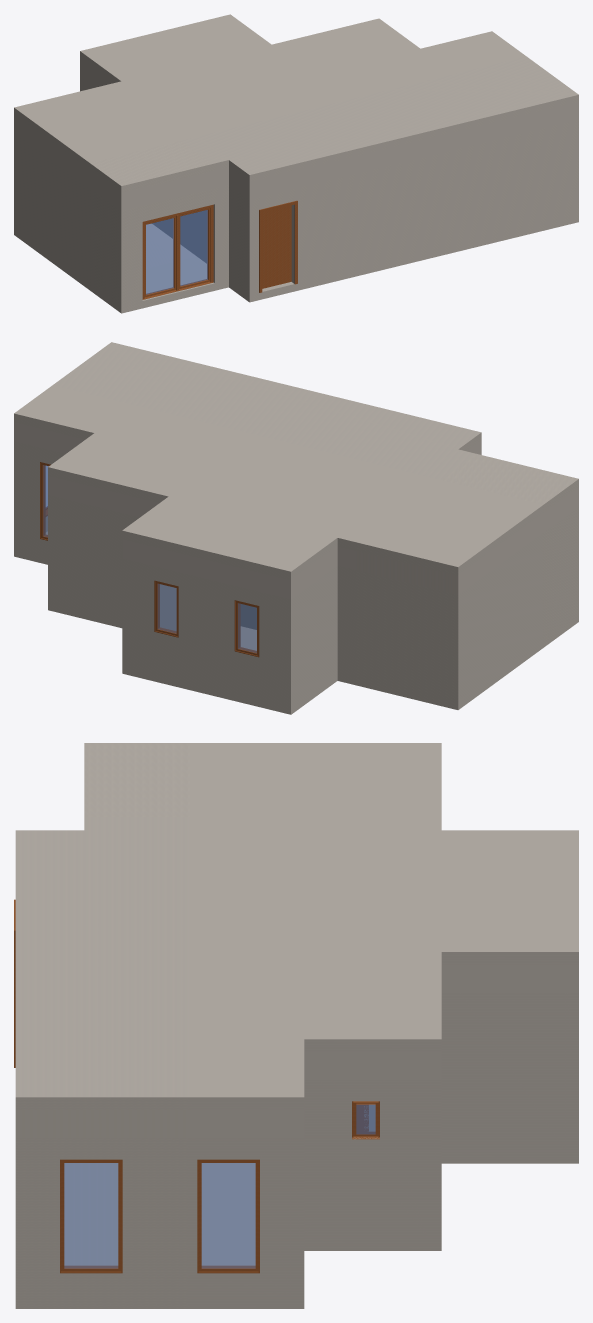
File: Plan 3d.glb
3 renders of one model, top to bottom at view 1: azimuth 30°, elevation 25°; view 2: azimuth 150°, elevation 25°; view 3: azimuth 270°, elevation 25°, orthographic. The views are drawn at different scales.
Parts seen in each view (by area): view 1: Component_2, Component_4, Component_3, Doors_GEALAN_S9000_Double-Vent-Door_-_Doors_GEALAN_S9000_Dou, M_Single-Flush_-_0915_x_2134mm-204332-_3D_; view 2: Component_2, Component_4, Component_3, Component_9, Component_9_2, Component_8_2, M_Fixed_-_0915_x_1830mm-225365-_3D__3, Component_8; view 3: Component_2, Component_4, Component_3, M_Fixed_-_0915_x_1830mm-225365-_3D_, M_Fixed_-_0915_x_1830mm-225365-_3D__2, M_Fixed_-_0406_x_0610mm-225791-_3D_.
Boxes of the visible parts, <box> form: Component_2: <box>14,14,578,193</box>; Component_4: <box>14,59,578,305</box>; Component_3: <box>14,214,578,313</box>; Doors_GEALAN_S9000_Double-Vent-Door_-_Doors_GEALAN_S9000_Dou: <box>142,204,213,299</box>; M_Single-Flush_-_0915_x_2134mm-204332-_3D_: <box>259,200,297,292</box>; Component_2: <box>14,342,578,579</box>; Component_4: <box>14,422,578,706</box>; Component_3: <box>14,531,578,714</box>; Component_9: <box>157,583,176,633</box>; Component_9_2: <box>238,603,256,653</box>; Component_8_2: <box>234,600,259,657</box>; M_Fixed_-_0915_x_1830mm-225365-_3D__3: <box>40,462,50,540</box>; Component_8: <box>154,580,178,637</box>; Component_2: <box>15,743,578,1109</box>; Component_4: <box>15,964,578,1296</box>; Component_3: <box>15,1151,578,1308</box>; M_Fixed_-_0915_x_1830mm-225365-_3D_: <box>197,1159,259,1273</box>; M_Fixed_-_0915_x_1830mm-225365-_3D__2: <box>60,1159,122,1273</box>; M_Fixed_-_0406_x_0610mm-225791-_3D_: <box>352,1101,379,1139</box>.
Size of the model in its own units: 12200 by 3401 by 8225.
11 materials, 2 textured.
